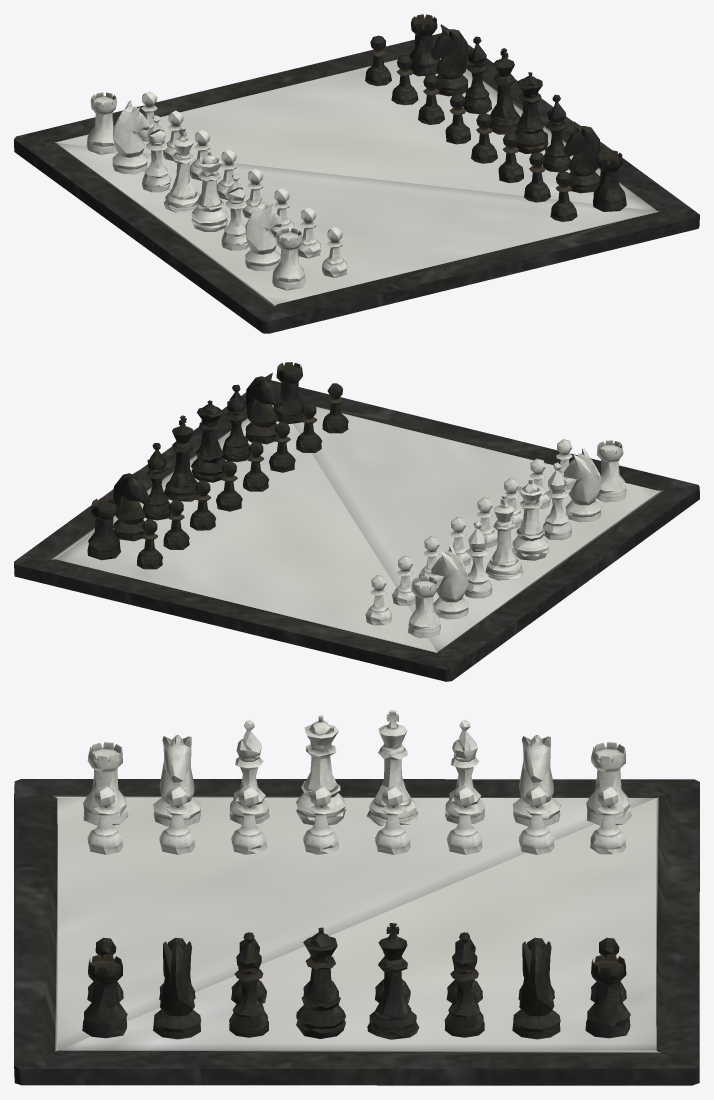
The model's file is chess-set.lod1.glb.
3 renders of one model, top to bottom at view 1: azimuth 30°, elevation 25°; view 2: azimuth 150°, elevation 25°; view 3: azimuth 270°, elevation 25°, orthographic. The views are drawn at different scales.
Visible parts, largest first — view 1: chess-set; view 2: chess-set; view 3: chess-set.
Boxes of the visible parts, x1,y1,x2,y2 form: chess-set: (14, 14, 699, 333); chess-set: (14, 362, 699, 681); chess-set: (14, 710, 699, 1085).
Bounding box in the file's own units: 0.3315 × 0.067 × 0.3315.
3 materials, 3 textured.
